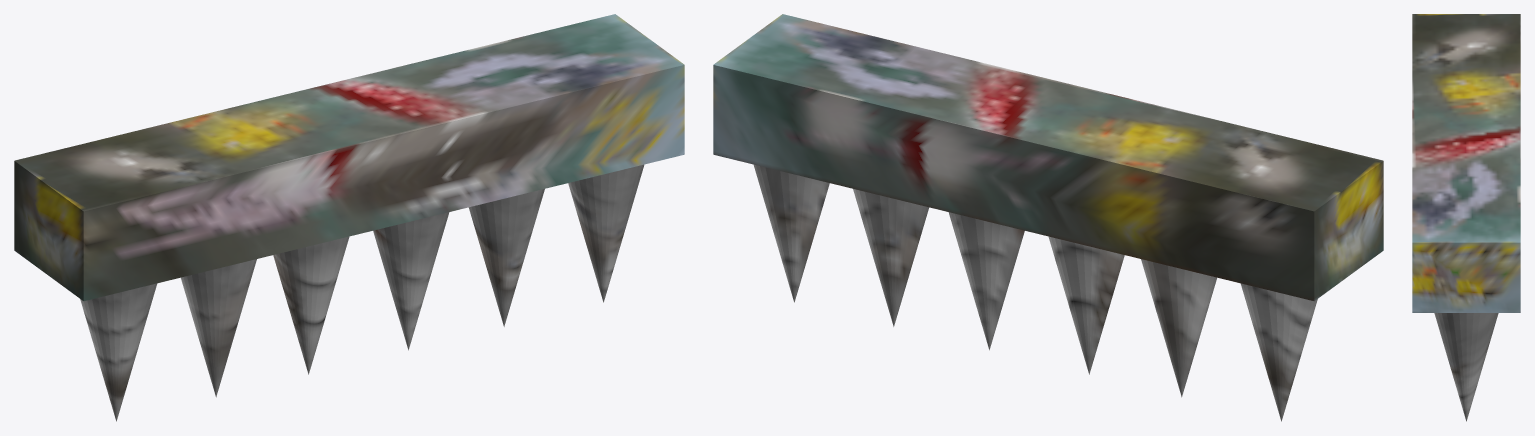
Rendered from Spikes.fbx.
The picture shows the model from 3 angles, left to right: view 1: azimuth 30°, elevation 25°; view 2: azimuth 150°, elevation 25°; view 3: azimuth 270°, elevation 25°; orthographic projection. The views are drawn at different scales.
Visible parts, largest first — view 1: Cone.005; view 2: Cone.005; view 3: Cone.005.
Part boxes in pixels (x1=…): Cone.005: x1=14, y1=14, x2=684, y2=421; Cone.005: x1=713, y1=14, x2=1383, y2=421; Cone.005: x1=1412, y1=14, x2=1520, y2=421.
Size of the model in its own units: 1400 by 562 by 280.
1 material, 1 textured.
